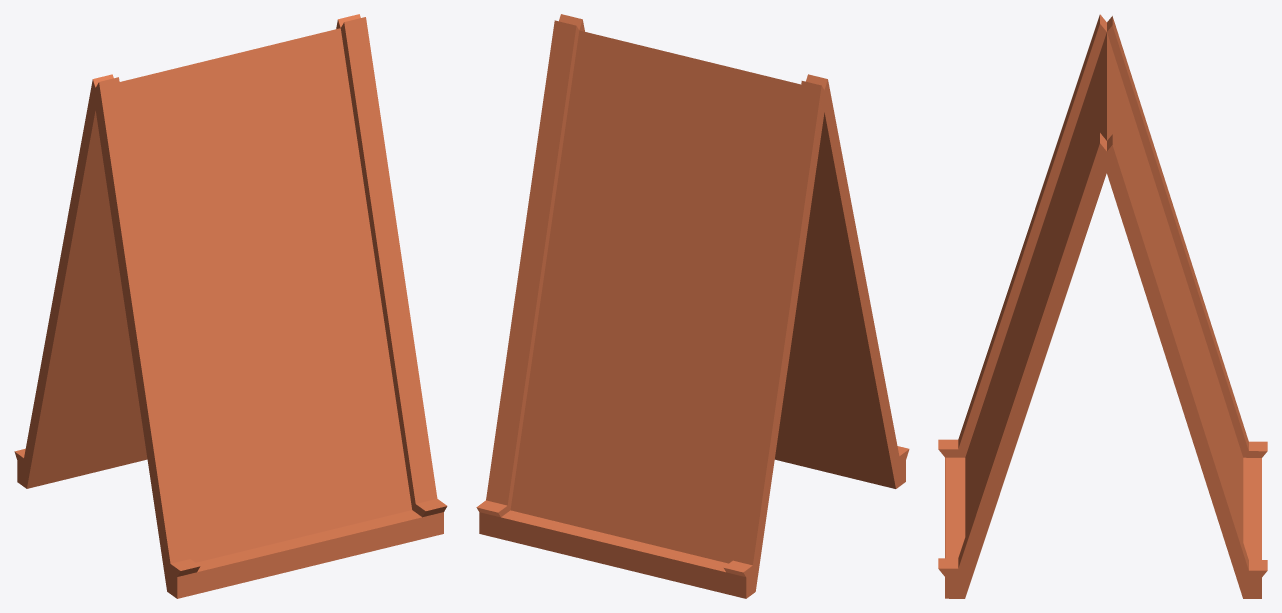
File: escrito.fbx
3 renders of one model, left to right at view 1: azimuth 30°, elevation 25°; view 2: azimuth 150°, elevation 25°; view 3: azimuth 270°, elevation 25°, orthographic.
Parts seen in each view (by area): view 1: Plane.005; view 2: Plane.005; view 3: Plane.005.
Boxes of the visible parts, <box> form: Plane.005: <box>14,14,447,598</box>; Plane.005: <box>476,14,909,598</box>; Plane.005: <box>938,14,1267,598</box>.
Bounding box in the file's own units: 66.41 × 109 × 71.63.
